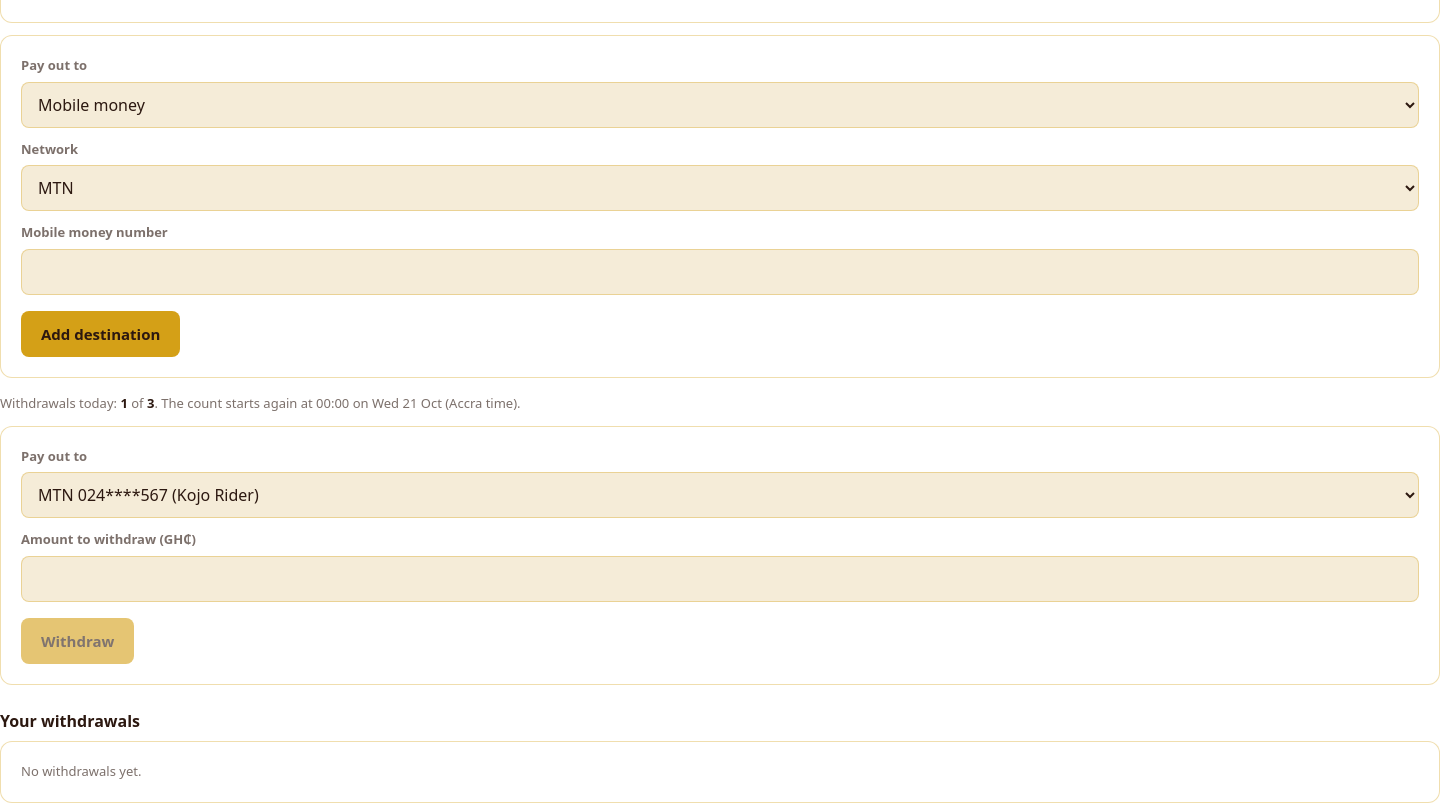
RiderWalletHome › withdraws through the rider base path with one request id
(page scrolled)
In the field labelled "Amount to withdraw (GH₵)": [720, 578] box [21, 556, 1419, 602], type "50"
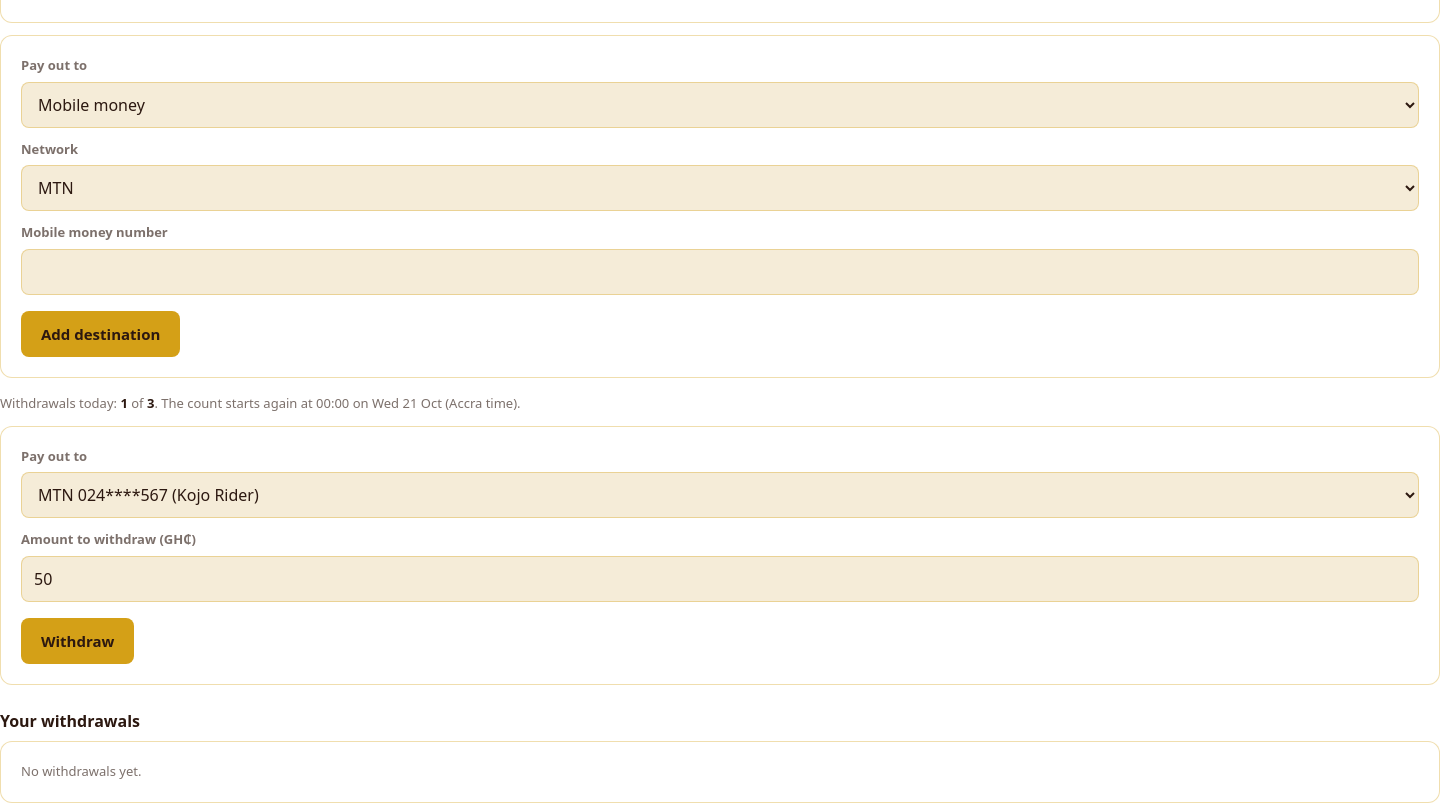
Click the button "Withdraw": [78, 641] box [21, 618, 134, 664]
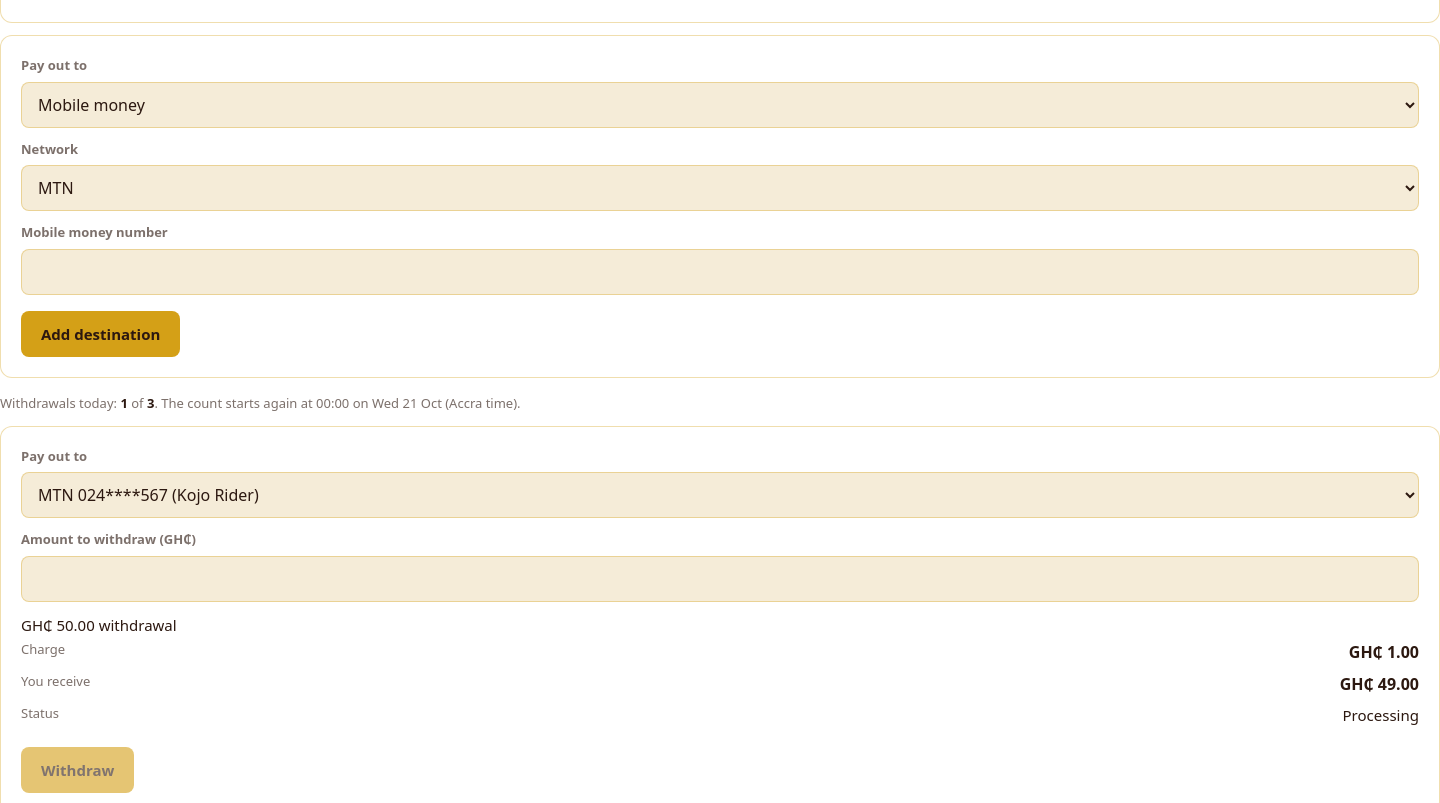
Expected: the text "You receive" is shown, [21, 672, 90, 696]
